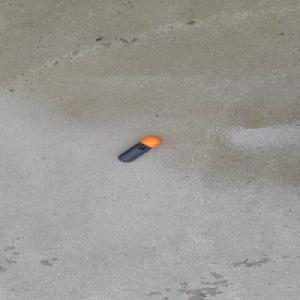PlasticPart: (117, 135, 162, 163)
